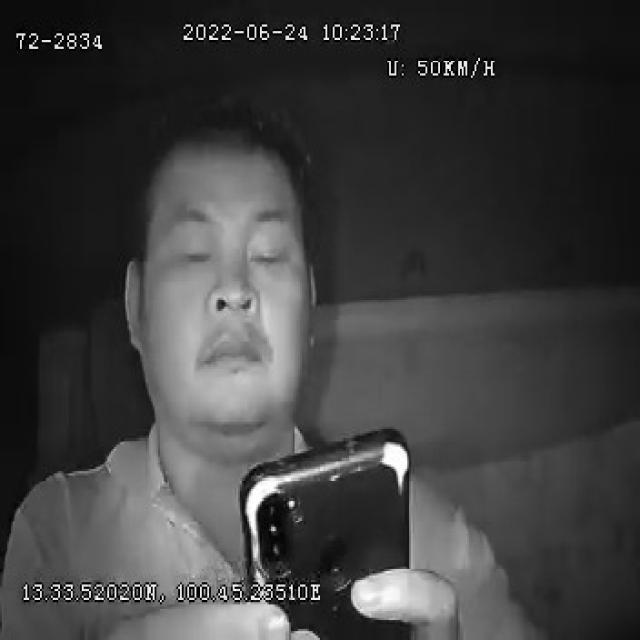phone: (236, 424, 414, 640)
